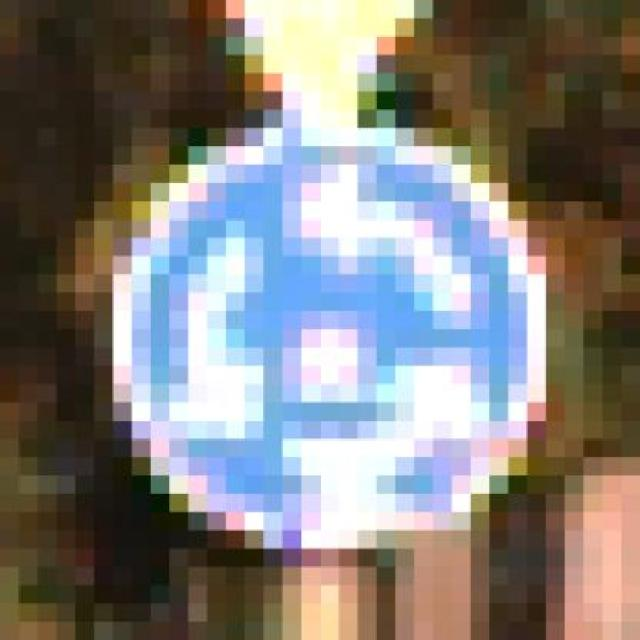Round-About: (38, 92, 602, 586)
